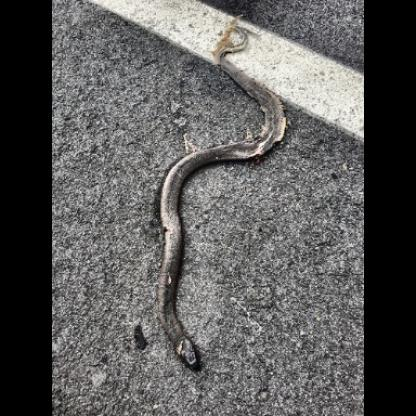Snake: (153, 8, 290, 372)
